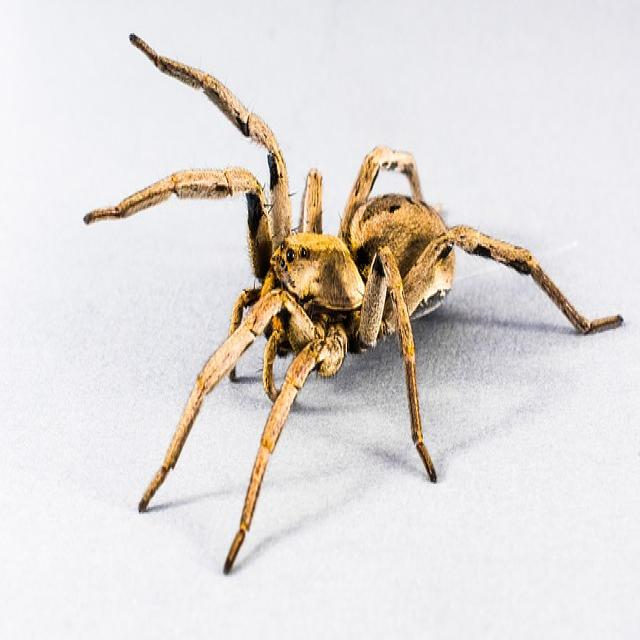spyder: (85, 37, 621, 572)
